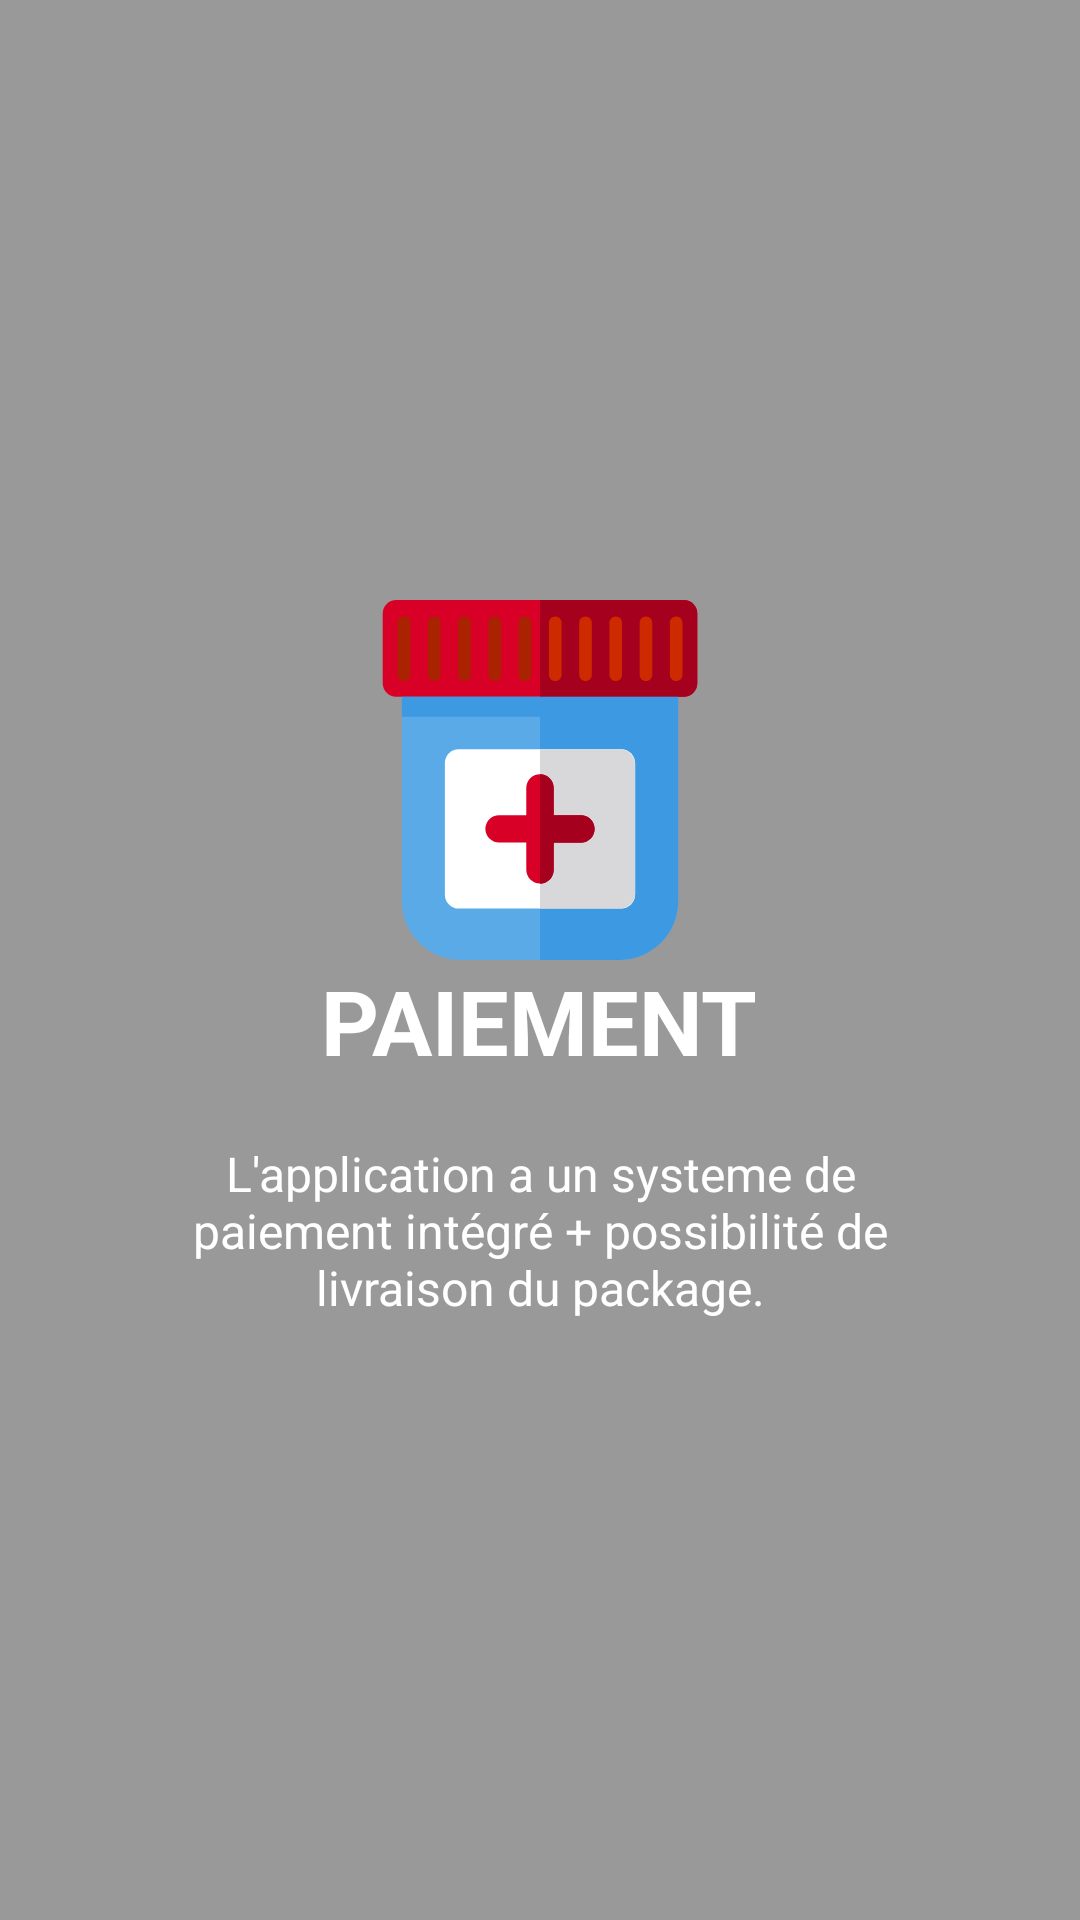

Icon click points for this 1080×1920 phone screenshot, format (x,y):
pills: (540,780)
